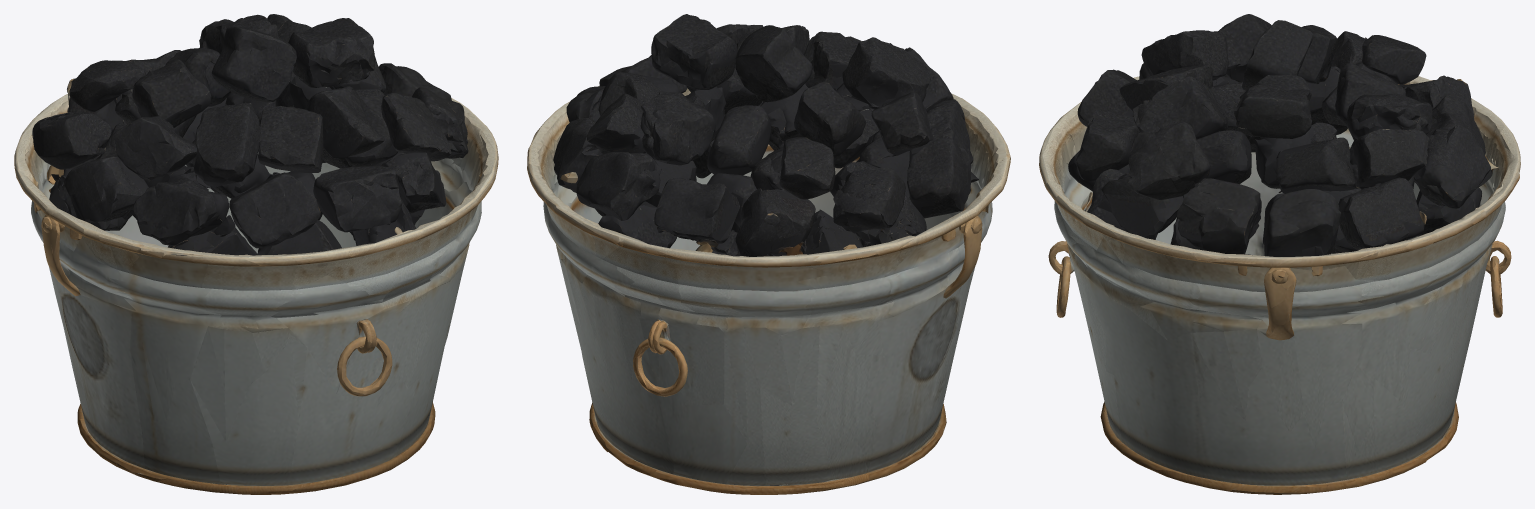
Rendered from coal_bucket_zinc.glb.
3 renders of one model, left to right at view 1: azimuth 30°, elevation 25°; view 2: azimuth 150°, elevation 25°; view 3: azimuth 270°, elevation 25°, orthographic.
Size of the model in its own units: 1.9 by 1.69 by 1.88.
1 material, 1 textured.
